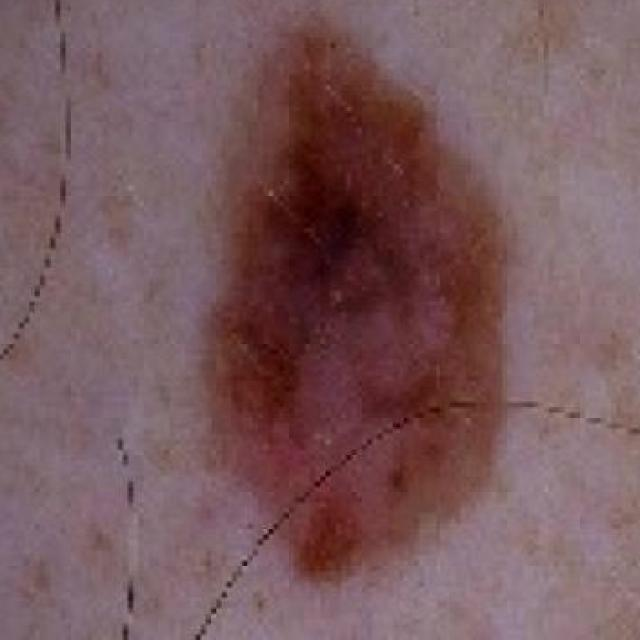MEL: (162, 0, 594, 640)
